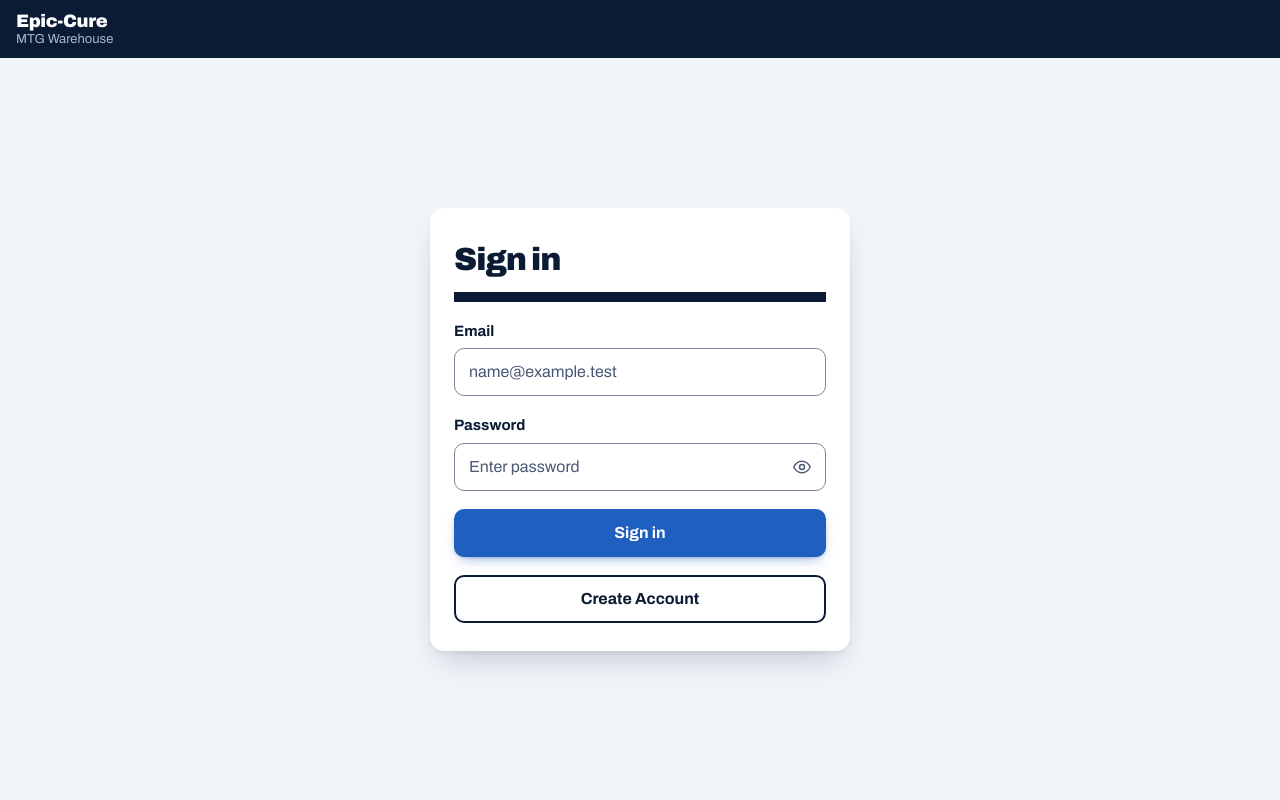
Test case: toggles password visibility
This screenshot has width=1280, height=800.
Click the button named "Show password" at (802, 466), box [780,444,824,488]
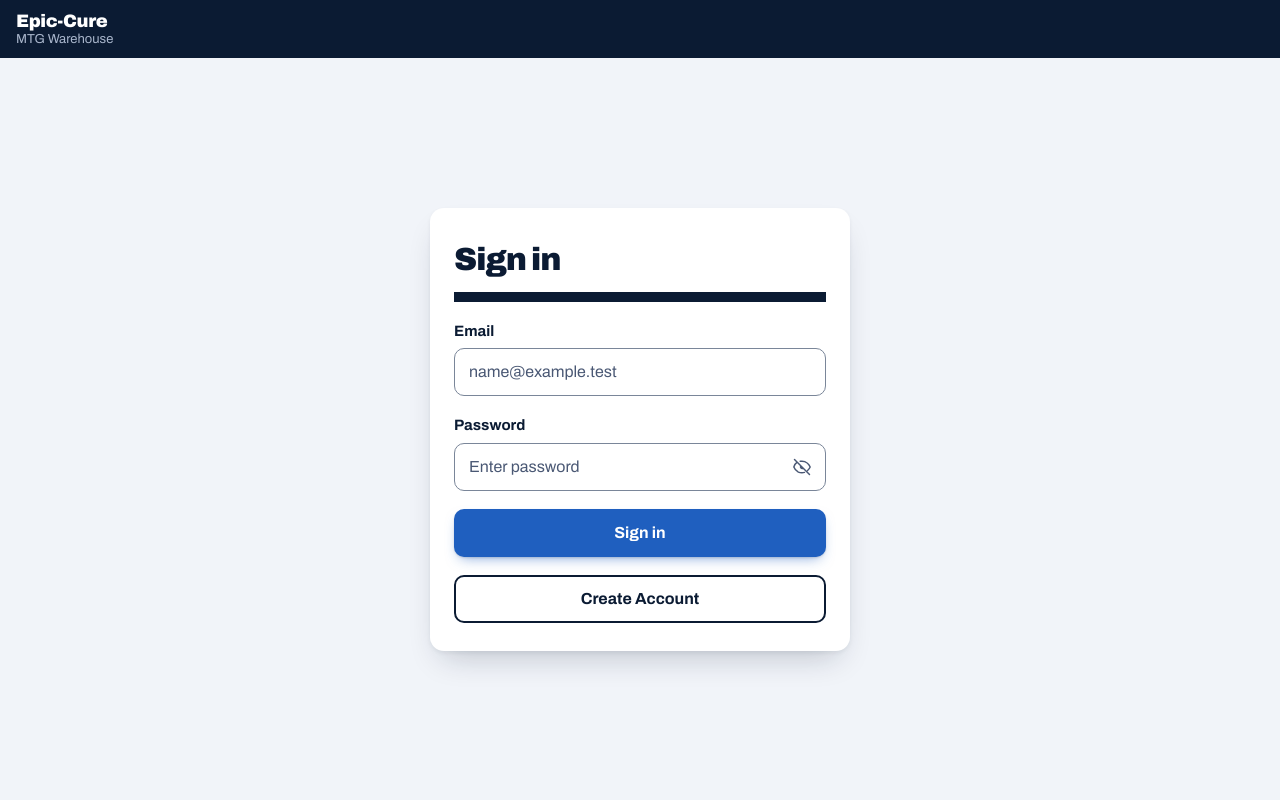
Now the button named "Hide password" is shown, box [780,444,824,488]
